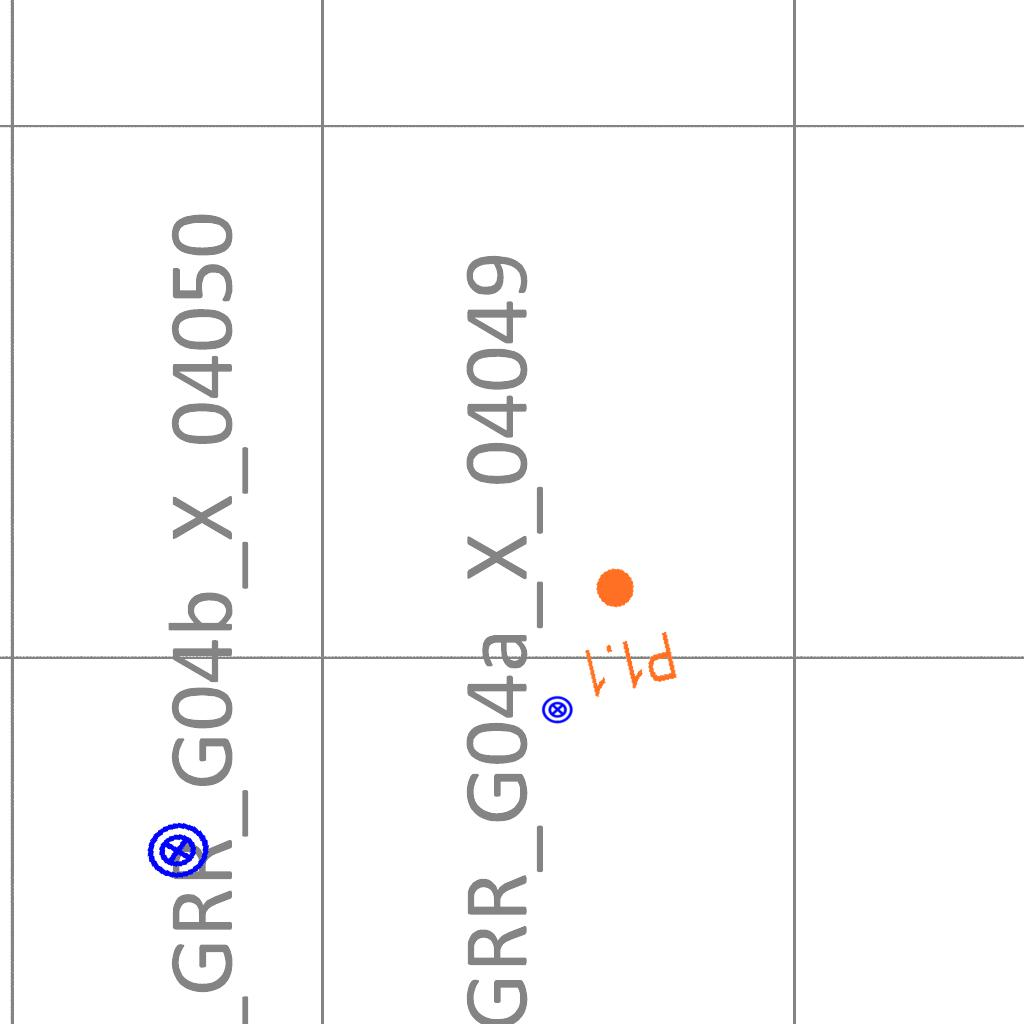Downlight_LED_Einbauleuchten_Flur: (561, 556, 682, 702)
Taster_beleuchtet: (139, 812, 217, 890), (541, 693, 574, 726)
